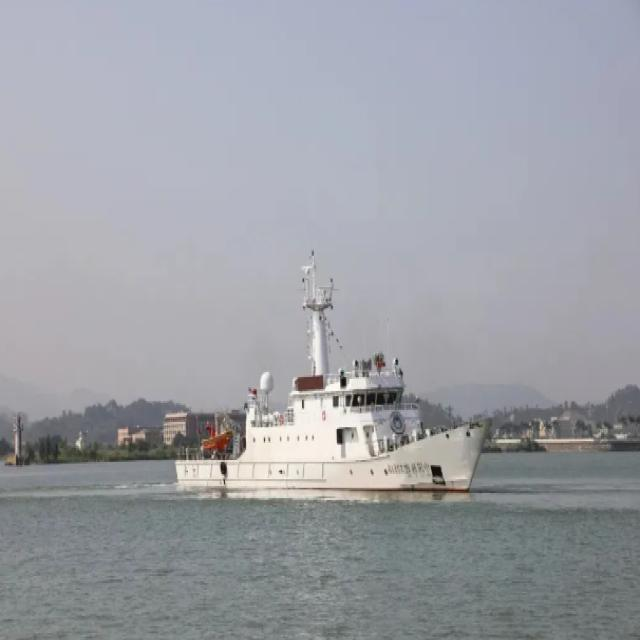houseboat: (169, 232, 487, 520)
